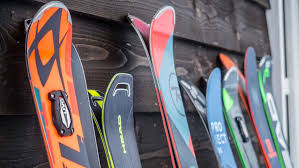skis: (19, 1, 98, 168), (124, 7, 197, 168), (219, 47, 282, 168), (181, 71, 235, 168), (86, 73, 140, 168), (220, 69, 260, 168), (259, 55, 293, 168)
